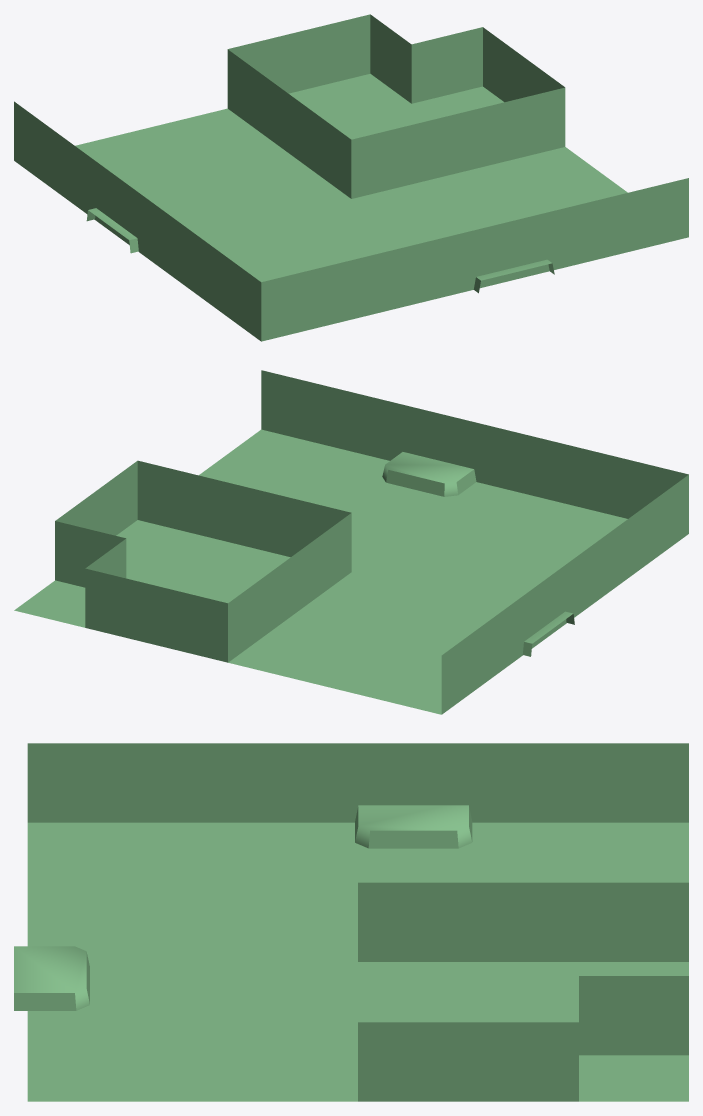
Rendered from Room_Corner_16_A_COL.fbx.
3 views of the same model, one above another, from view 1: azimuth 30°, elevation 25°; view 2: azimuth 150°, elevation 25°; view 3: azimuth 270°, elevation 25° (orthographic). The views are drawn at different scales.
Parts seen in each view (by area): view 1: Room_Corner_16_A_COL; view 2: Room_Corner_16_A_COL; view 3: Room_Corner_16_A_COL.
Boxes of the visible parts, x1,y1,x2,y2 form: Room_Corner_16_A_COL: (14,14,688,341); Room_Corner_16_A_COL: (14,370,688,714); Room_Corner_16_A_COL: (14,743,688,1101).
Bounding box in the file's own units: 1223 × 159 × 1226.
